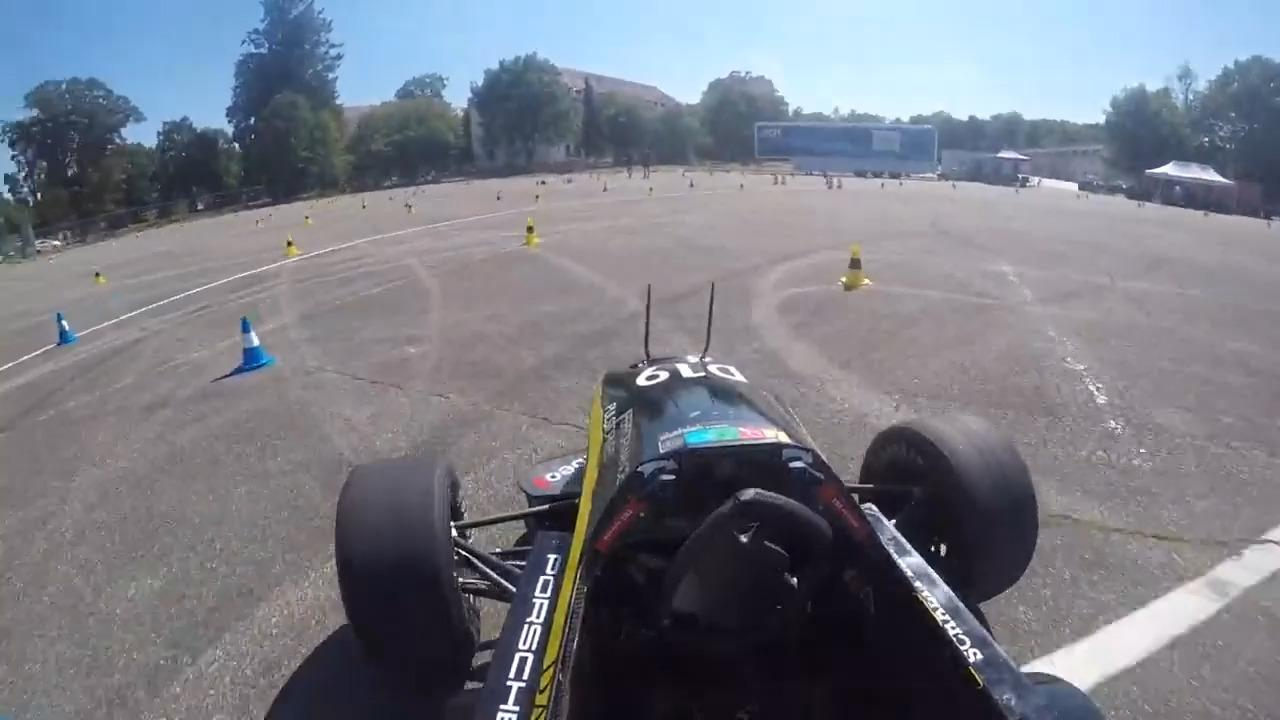blue_cone: (233, 315, 272, 372), (48, 310, 75, 348)
yellow_cone: (837, 243, 869, 293), (520, 213, 540, 247), (281, 235, 300, 259), (90, 269, 105, 287), (302, 212, 312, 226)
